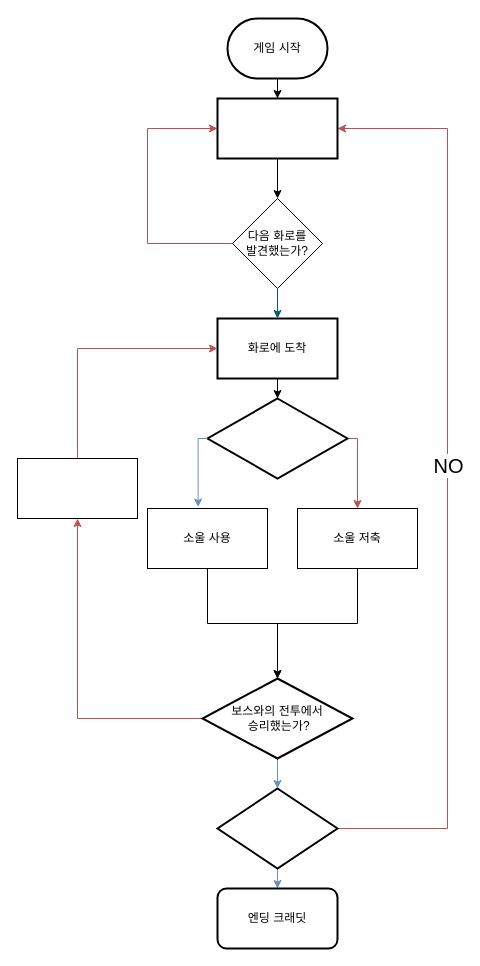
The diagram is 480 pixels wide and 966 high, and some of its shapes have lost their labels. The shapes that lost their labels are listed below. From the top down, each one's centre as x and y in pixels, then its label:
the point at 277,128: 다음 목적지인 화로를 향한다.
the point at 277,438: 소울을 사용할 것인가?
the point at 77,488: 마지막으로 들린 화로에서 부활
the point at 277,828: 최종보스인가?
